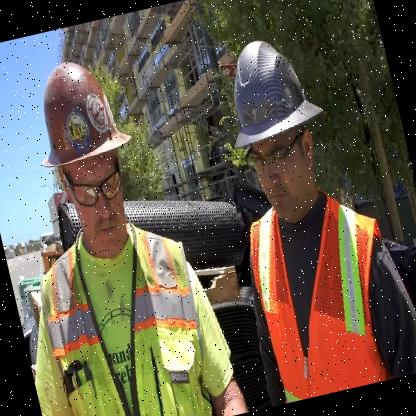capacete: (212, 25, 335, 160), (21, 46, 141, 180)
